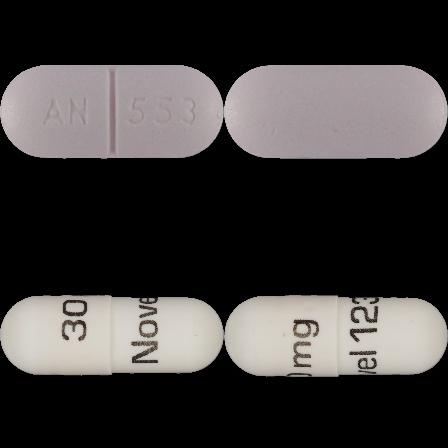61919-262: (0, 0, 224, 224)
